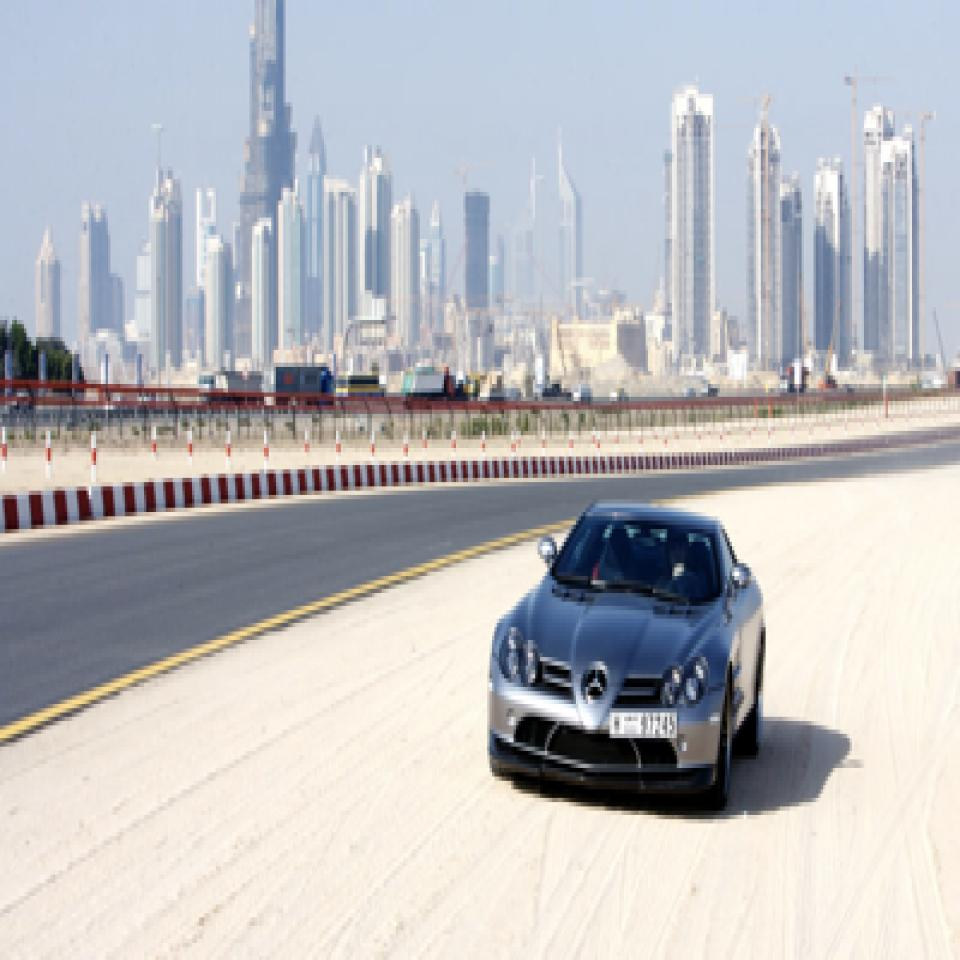licence: (605, 691, 679, 751)
